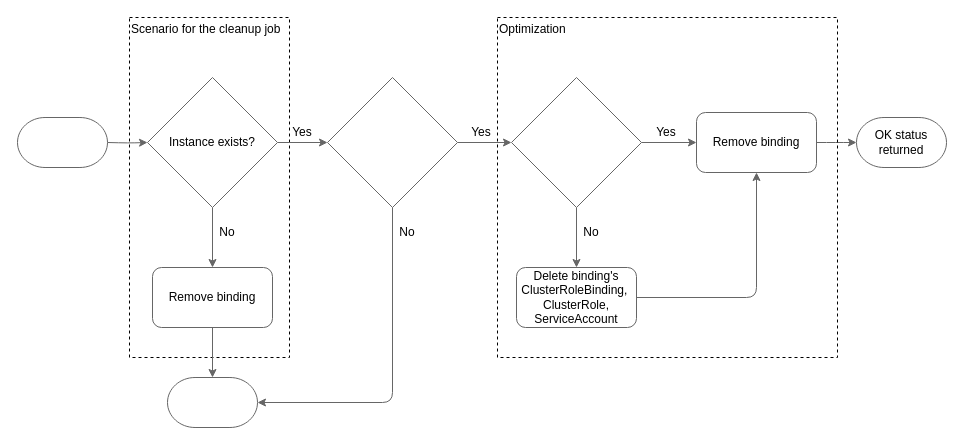
This 964x445 diagram has some shape labels left out. Each missing label, with the centre of its shape:
"Binding exists?" belongs at (x=392, y=142).
"GONE status returned" belongs at (x=212, y=402).
"Last operation on the instance is deprovisioning (suspension)?" belongs at (x=576, y=142).
"Start" belongs at (x=62, y=142).
